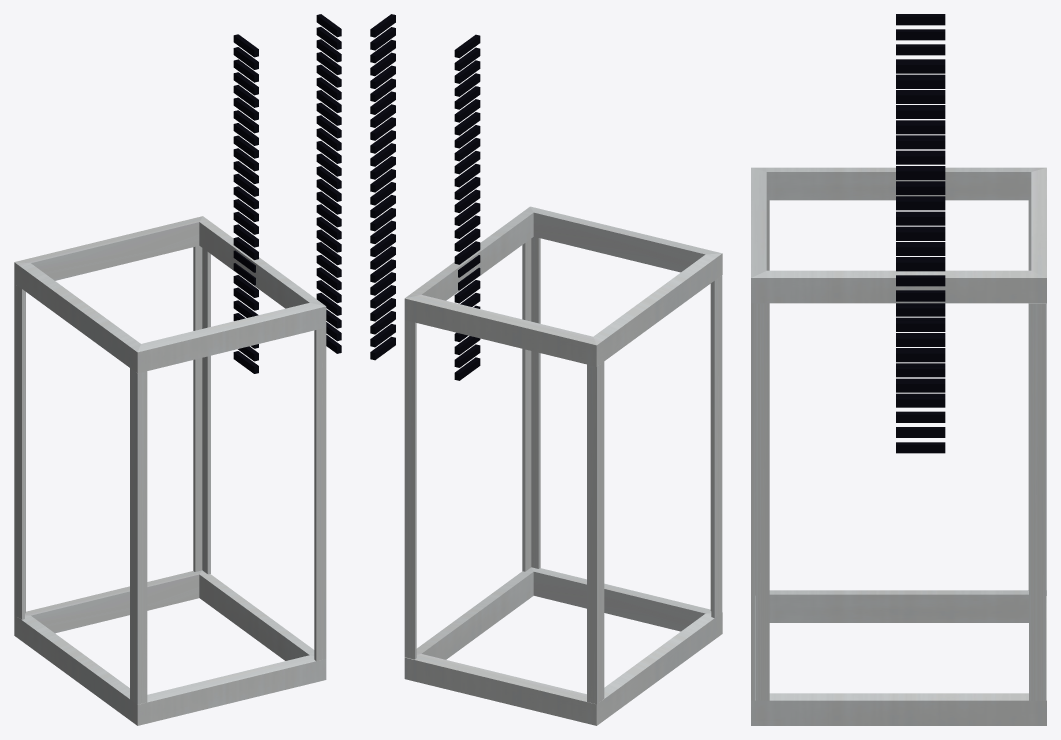
The model's file is rack.fbx.
The picture shows the model from 3 angles, left to right: view 1: azimuth 30°, elevation 25°; view 2: azimuth 150°, elevation 25°; view 3: azimuth 270°, elevation 25°; orthographic projection. The views are drawn at different scales.
Parts seen in each view (by area): view 1: Cube.009, Cube.053; view 2: Cube.009, Cube.053; view 3: Cube.009, Cube.053, Cube.078, Cube.079, Cube.080.
Boxes of the visible parts, <box> form: Cube.009: <box>14,216,326,725</box>; Cube.053: <box>316,14,341,353</box>; Cube.009: <box>404,206,722,725</box>; Cube.053: <box>370,14,395,360</box>; Cube.009: <box>751,167,1046,725</box>; Cube.053: <box>896,62,945,453</box>; Cube.078: <box>896,44,945,55</box>; Cube.079: <box>896,29,945,40</box>; Cube.080: <box>896,14,945,25</box>.
Size of the model in its own units: 149 by 316 by 120.
Materials: 2 (1 with a texture image).
